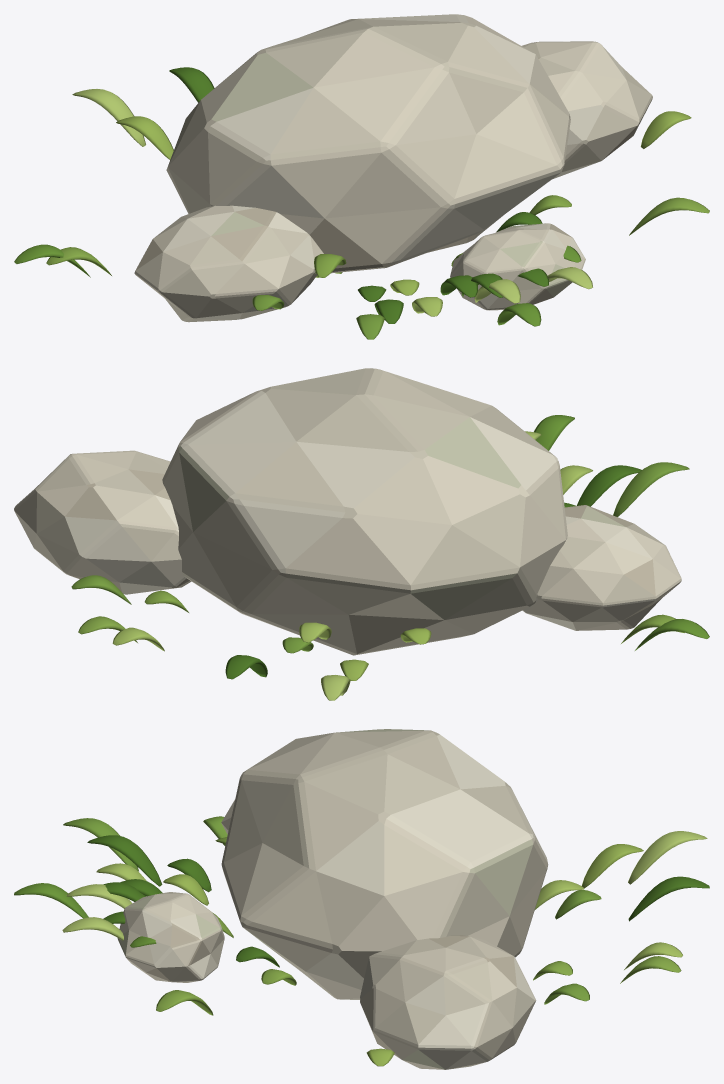
3 views of the same model, one above another, from view 1: azimuth 30°, elevation 25°; view 2: azimuth 150°, elevation 25°; view 3: azimuth 270°, elevation 25° (orthographic). The views are drawn at different scales.
Visible parts, largest first — view 1: 苔石与地被组合; view 2: 苔石与地被组合; view 3: 苔石与地被组合.
Part boxes in pixels (<box>): 苔石与地被组合: <box>14,14,709,339</box>; 苔石与地被组合: <box>14,368,709,700</box>; 苔石与地被组合: <box>14,729,709,1069</box>.
Size of the model in its own units: 1.61 by 0.5311 by 1.47.
